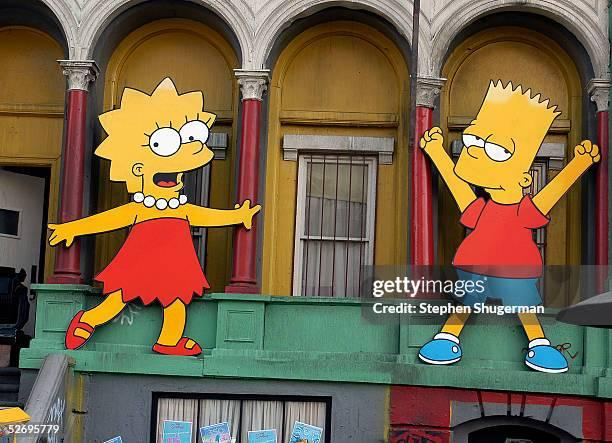Bart: (397, 74, 605, 377)
Lisa: (48, 70, 261, 378)
